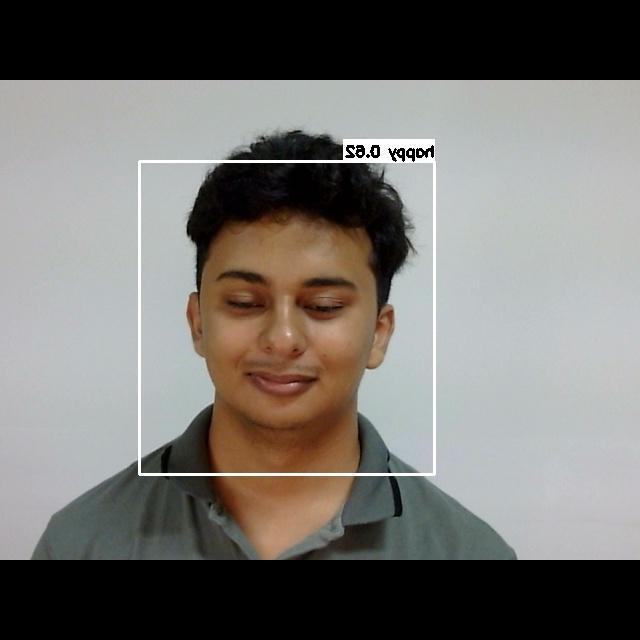Happy: (198, 240, 382, 410)
